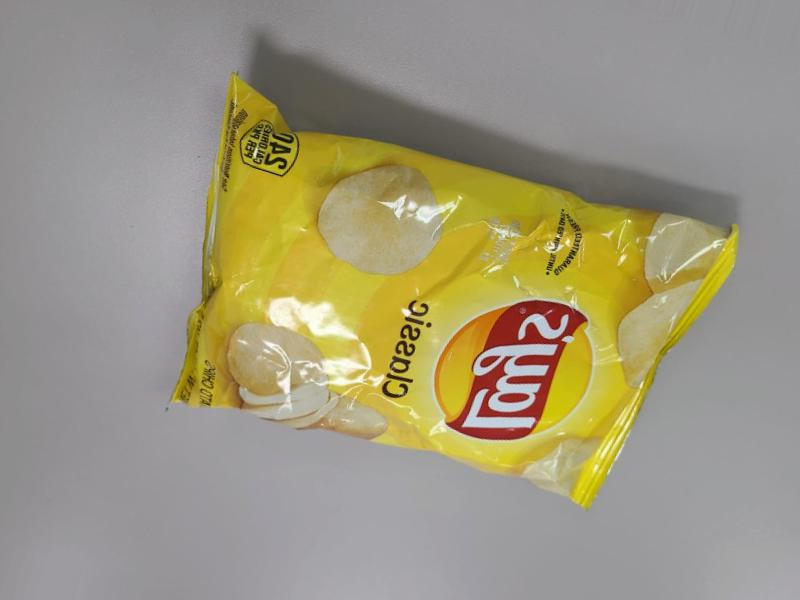lays: (225, 57, 688, 517)
